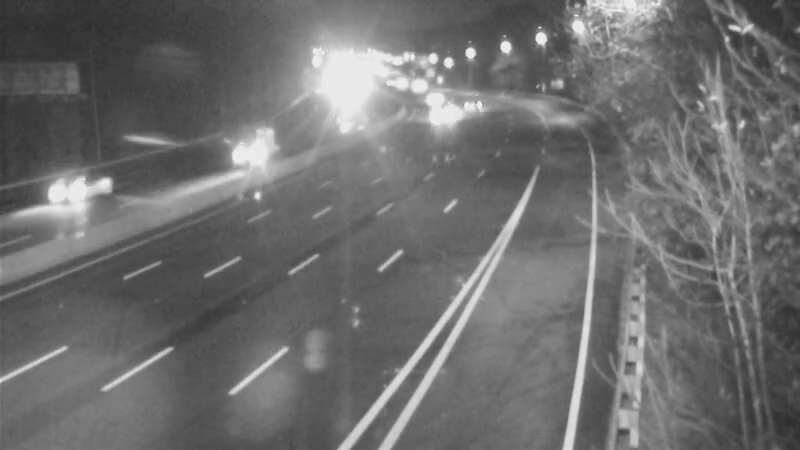vehicle: (31, 149, 111, 229), (208, 113, 288, 193), (415, 90, 465, 140)
